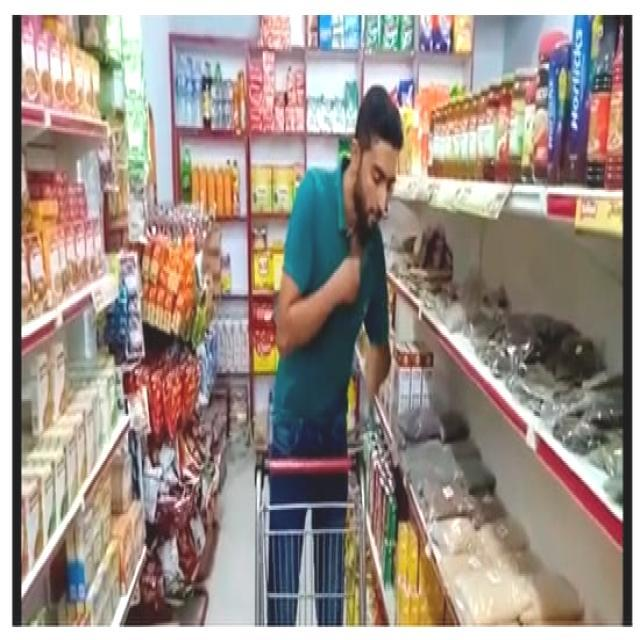shoplifting: (220, 75, 472, 585)
